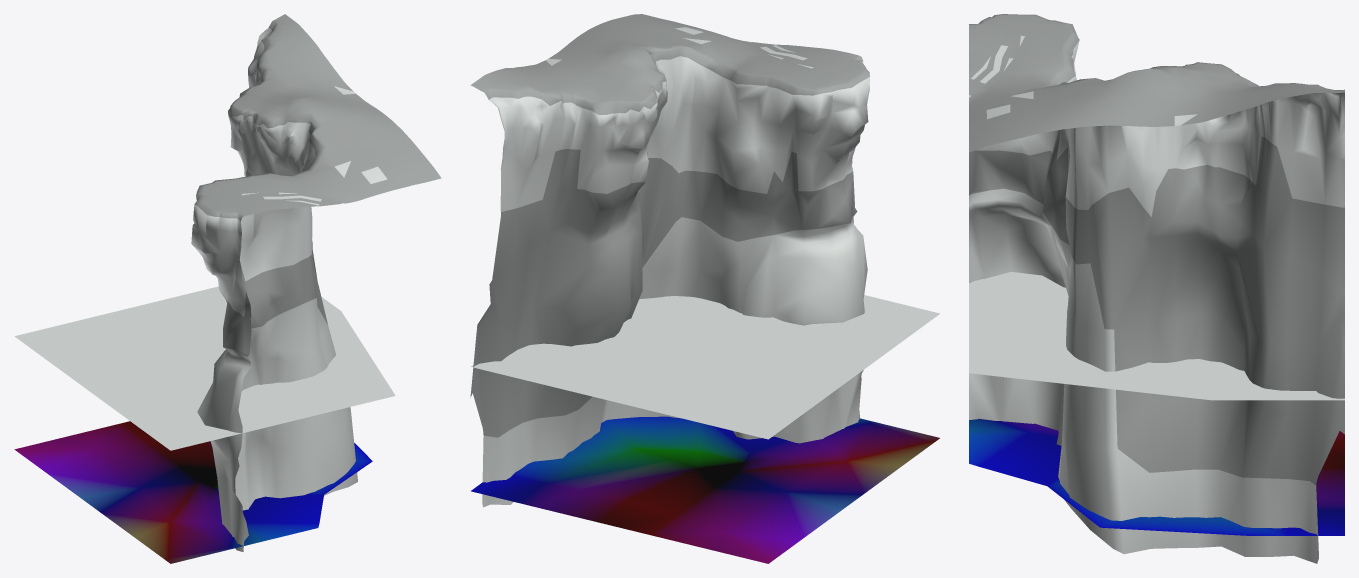
The picture shows the model from 3 angles, left to right: view 1: azimuth 30°, elevation 25°; view 2: azimuth 150°, elevation 25°; view 3: azimuth 270°, elevation 25°; orthographic projection. The views are drawn at different scales.
Parts seen in each view (by area): view 1: G:\FFXIV-MapTools\exports\w1f5\bg\ffxiv\wil_w1\fld\w1f5\bgpl (×11); view 2: G:\FFXIV-MapTools\exports\w1f5\bg\ffxiv\wil_w1\fld\w1f5\bgpl (×10); view 3: G:\FFXIV-MapTools\exports\w1f5\bg\ffxiv\wil_w1\fld\w1f5\bgpl (×11).
Part boxes in pixels (x1=…): G:\FFXIV-MapTools\exports\w1f5\bg\ffxiv\wil_w1\fld\w1f5\bgpl (×11): x1=14, y1=14, x2=441, y2=563; G:\FFXIV-MapTools\exports\w1f5\bg\ffxiv\wil_w1\fld\w1f5\bgpl (×10): x1=470, y1=14, x2=940, y2=563; G:\FFXIV-MapTools\exports\w1f5\bg\ffxiv\wil_w1\fld\w1f5\bgpl (×11): x1=969, y1=14, x2=1344, y2=563.
Bounding box in the file's own units: 128 × 179 × 128.
